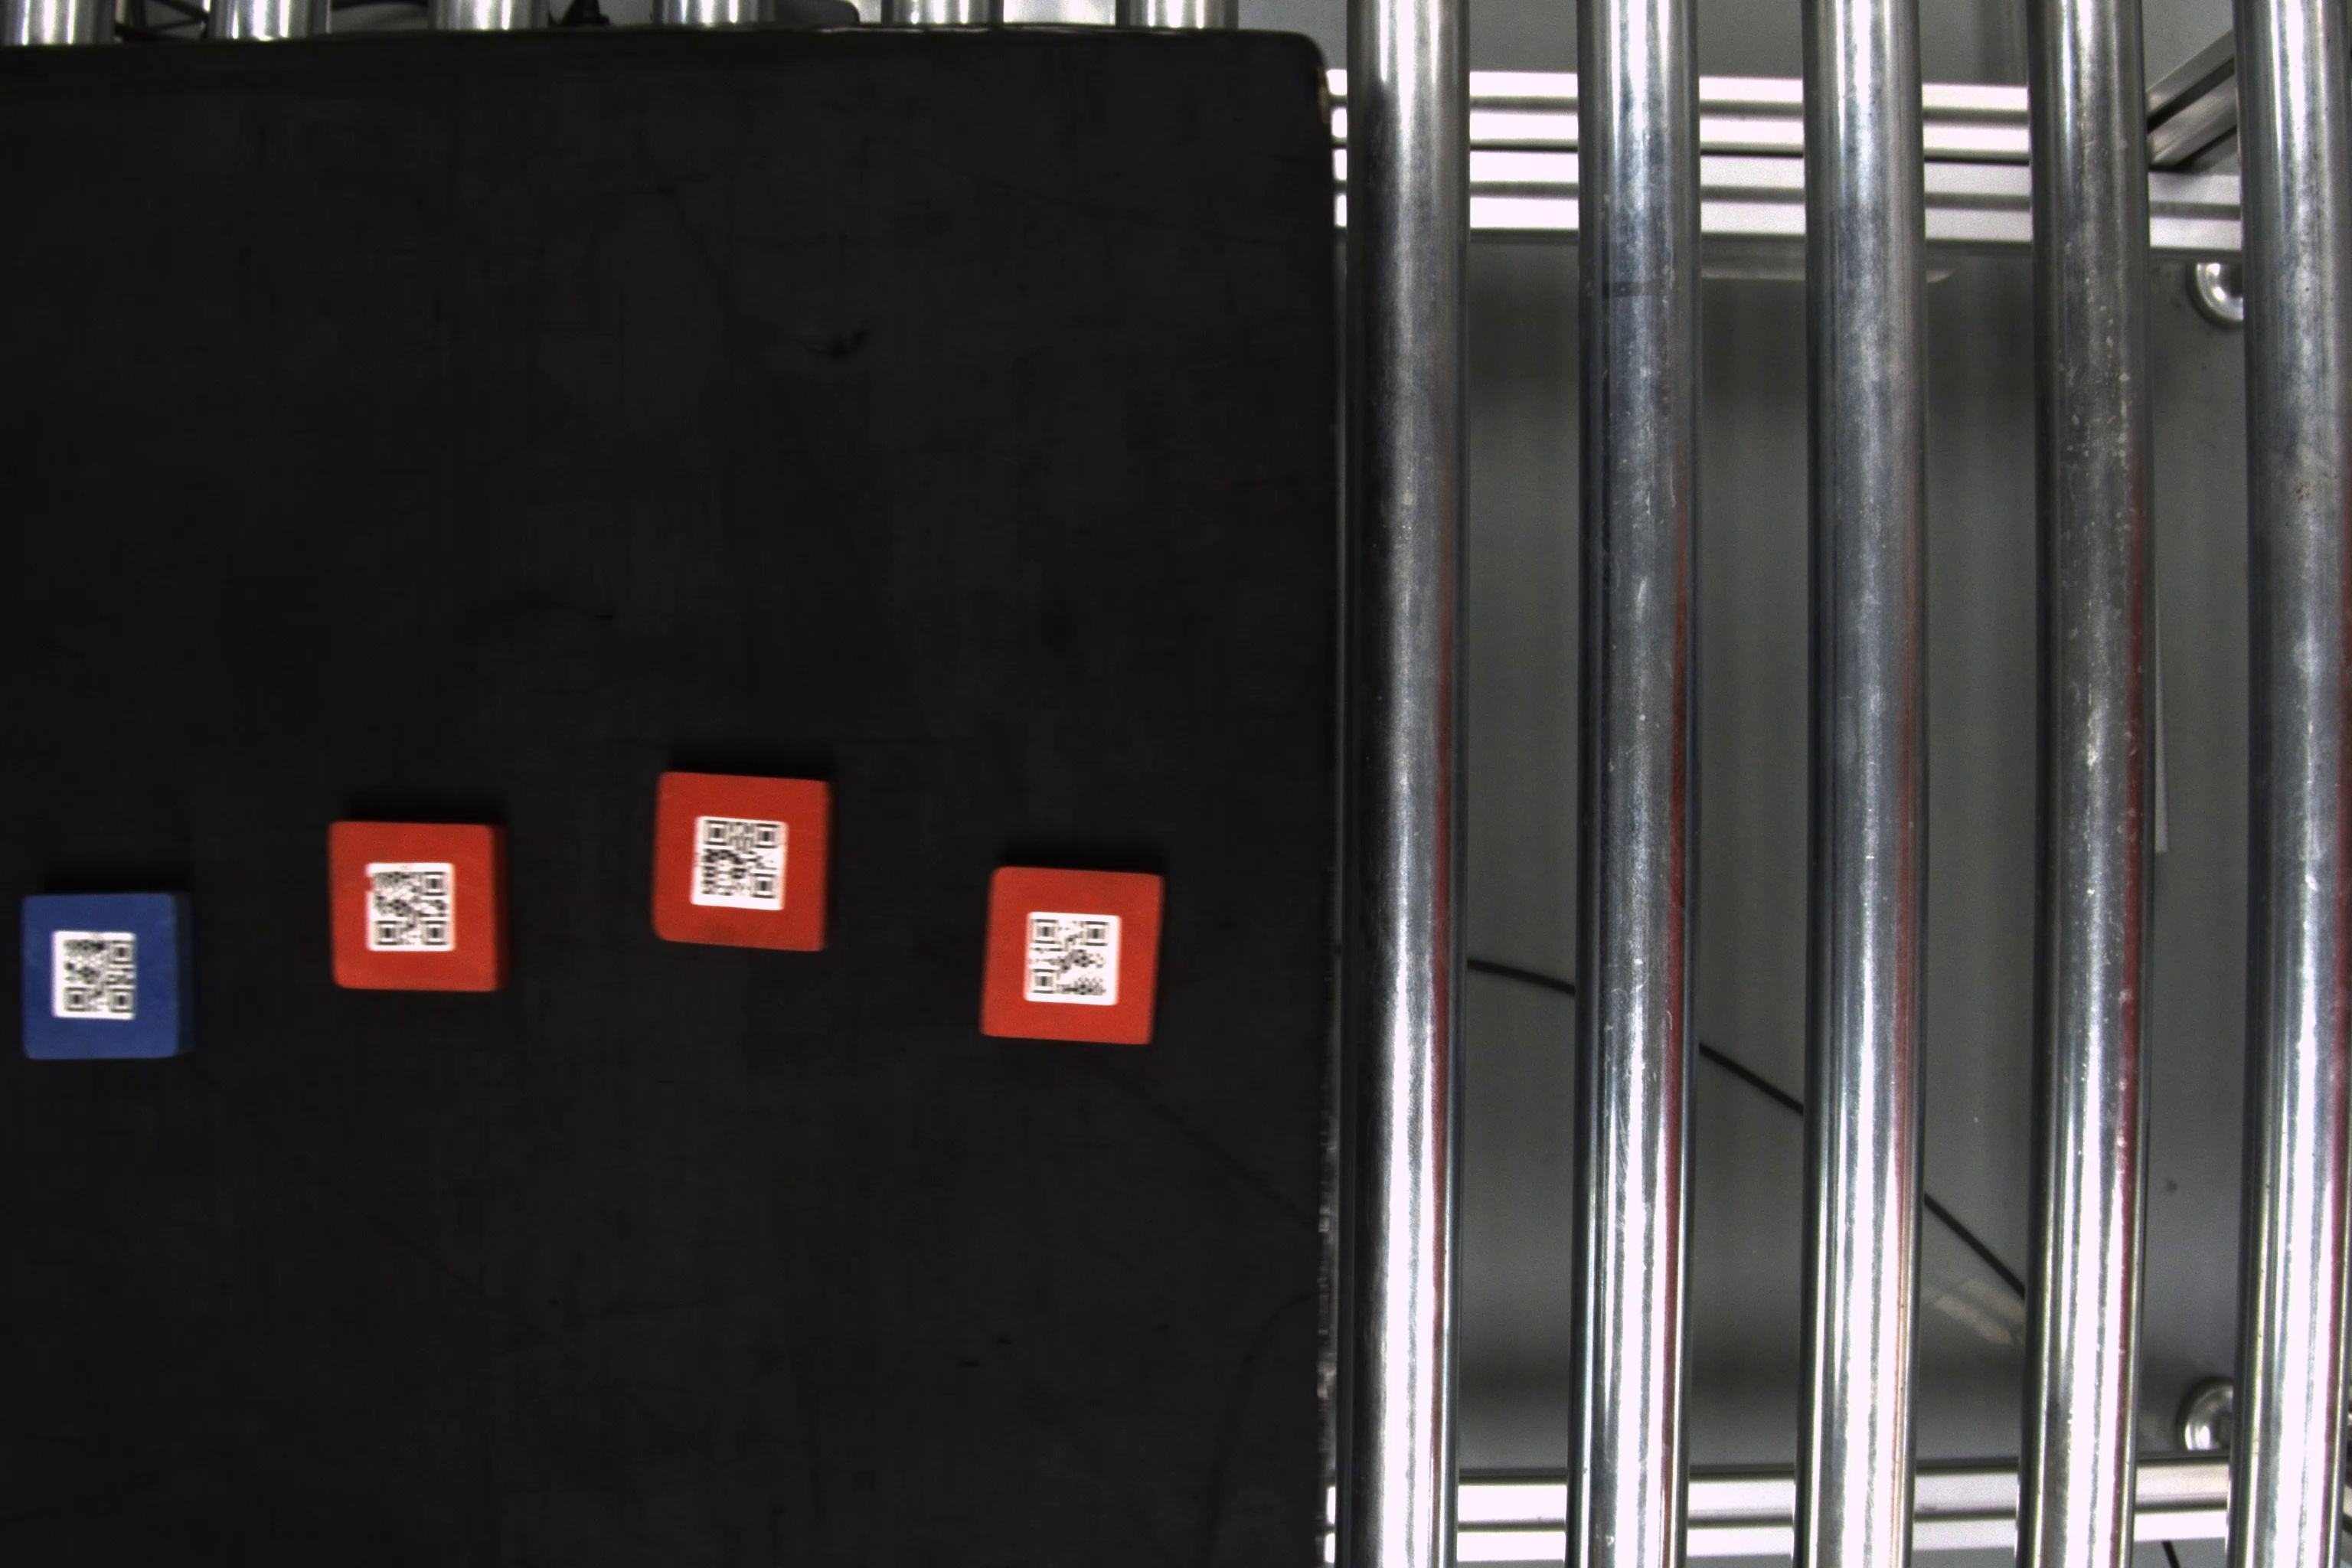wood: (640, 759, 842, 954), (322, 815, 514, 1003), (980, 861, 1169, 1048), (17, 889, 203, 1062)
